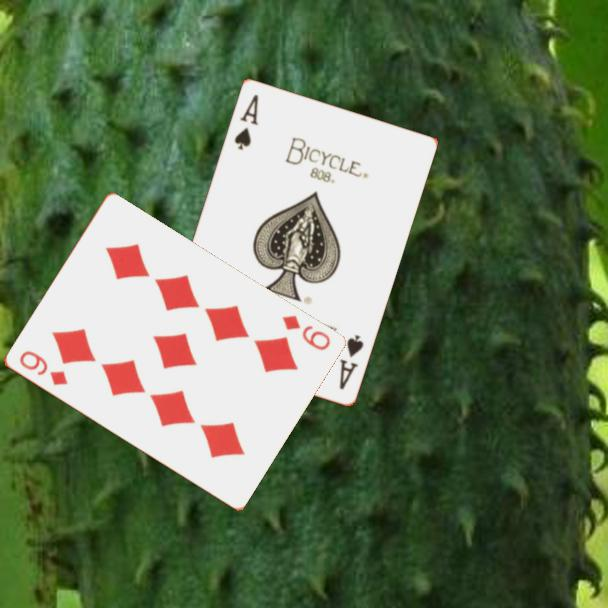d09: (15, 347, 70, 389), (278, 312, 333, 354)
s01: (230, 90, 261, 153), (335, 331, 366, 392)
